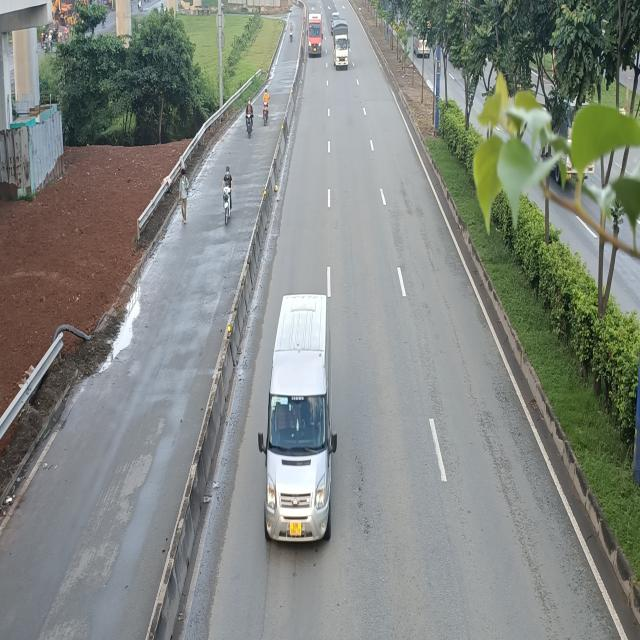truck: (334, 19, 352, 70)
van: (256, 294, 337, 544), (306, 12, 322, 57)
